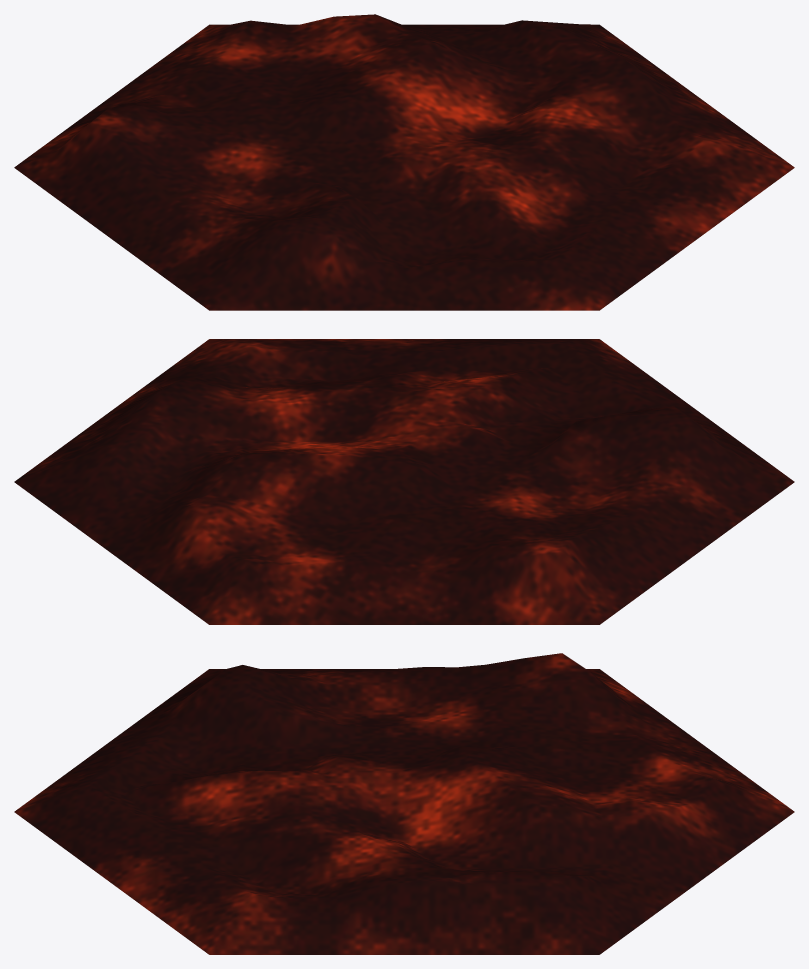
The model's file is HexSoil_s09.fbx.
3 renders of one model, top to bottom at view 1: azimuth 30°, elevation 25°; view 2: azimuth 150°, elevation 25°; view 3: azimuth 270°, elevation 25°, orthographic.
Visible parts, largest first — view 1: HexSoil_s09; view 2: HexSoil_s09; view 3: HexSoil_s09.
Part boxes in pixels (x1,y1,x2,y2): HexSoil_s09: (14,14,794,310); HexSoil_s09: (14,339,794,624); HexSoil_s09: (14,653,794,954).
Bounding box in the file's own units: 86.6 × 7.45 × 100.
Materials: 1 (1 with a texture image).
